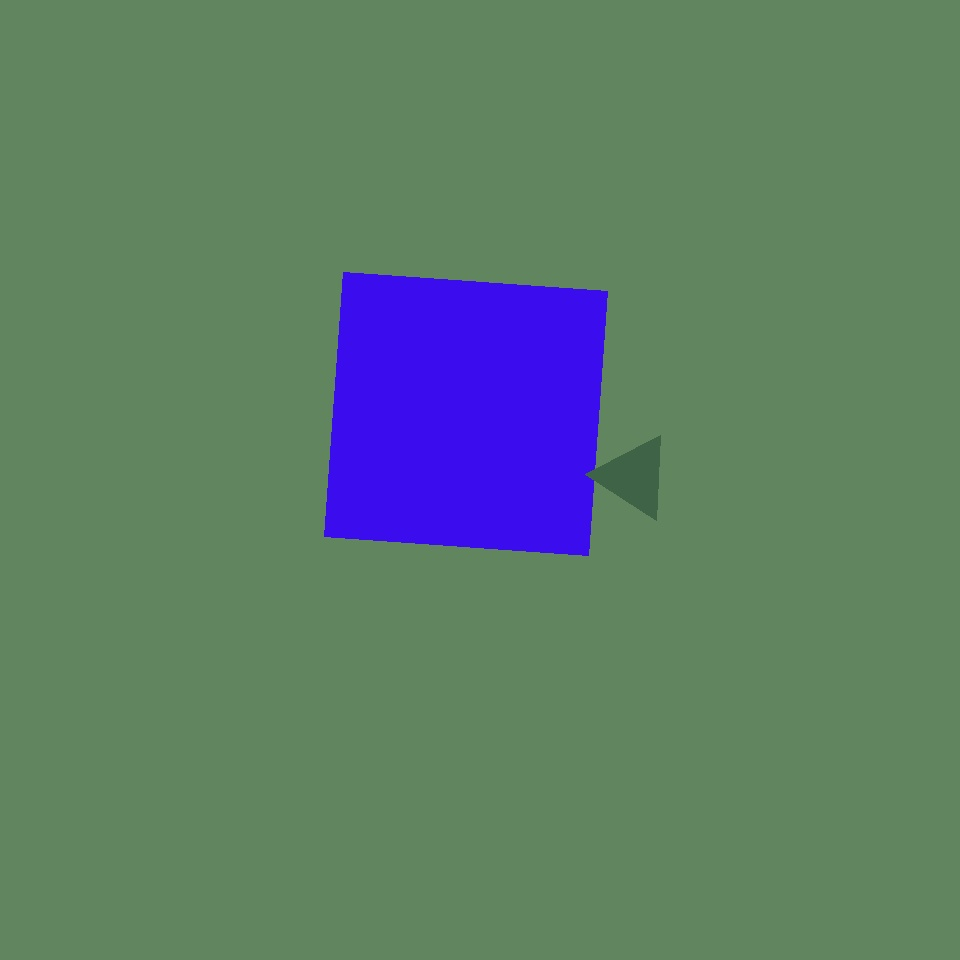circle: (365, 533, 614, 788), (596, 434, 672, 520)
square: (47, 594, 356, 903), (324, 272, 608, 556), (300, 446, 575, 721), (300, 354, 456, 510)
triangle: (191, 548, 358, 715)
